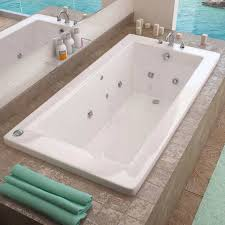bathub: (1, 29, 225, 195)
